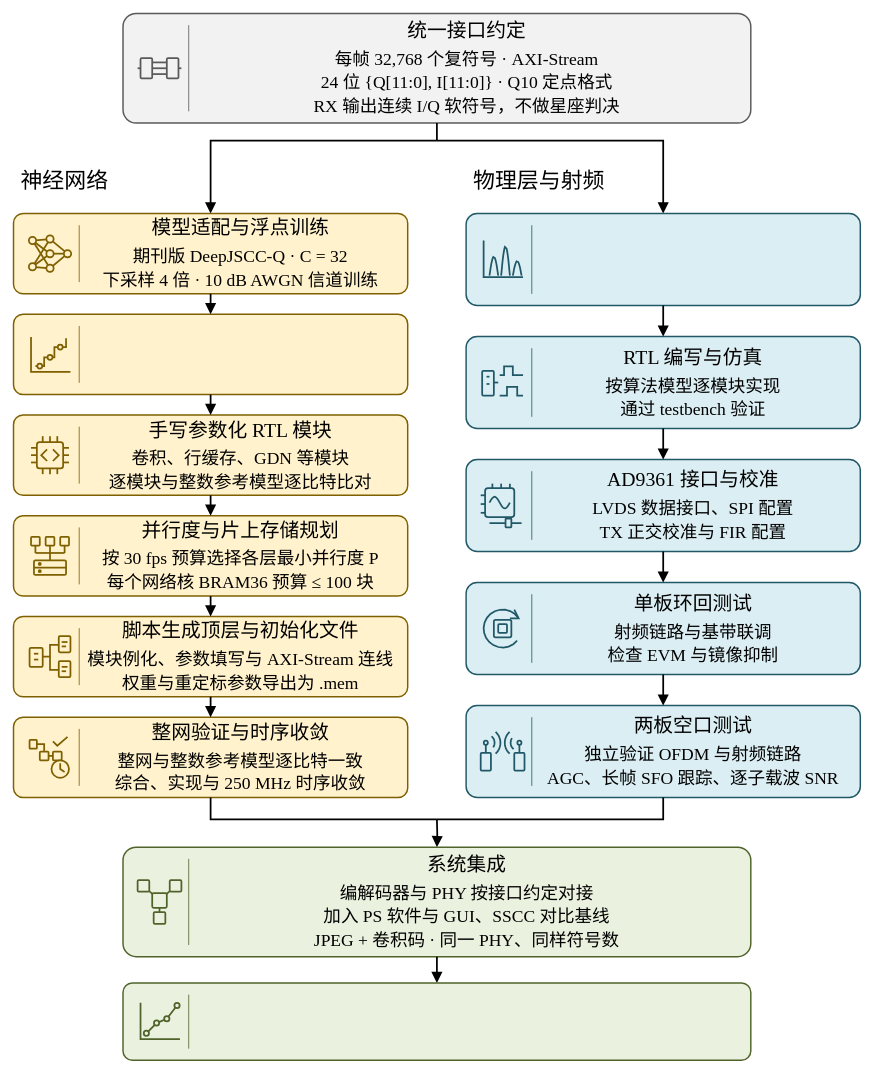
Image size: 873x1073. Some labels were removed from this diagram. The shapes that lost their labels are listed below. From the top down, each one's centre as x and y in pixels, then its label:
point (663, 259): OFDM 收发算法仿真 帧检测、定时与 SFO 跟踪 确定检测、定时门限与跟踪环参数
point (210, 354): W8A12 训练后量化 建立整数参考模型 明确舍入、饱和与非线性算法
point (436, 1021): 整机空口实测 PSNR–SNR 曲线 · 帧率 · PL 时延 · 功耗 · SSCC 对比
